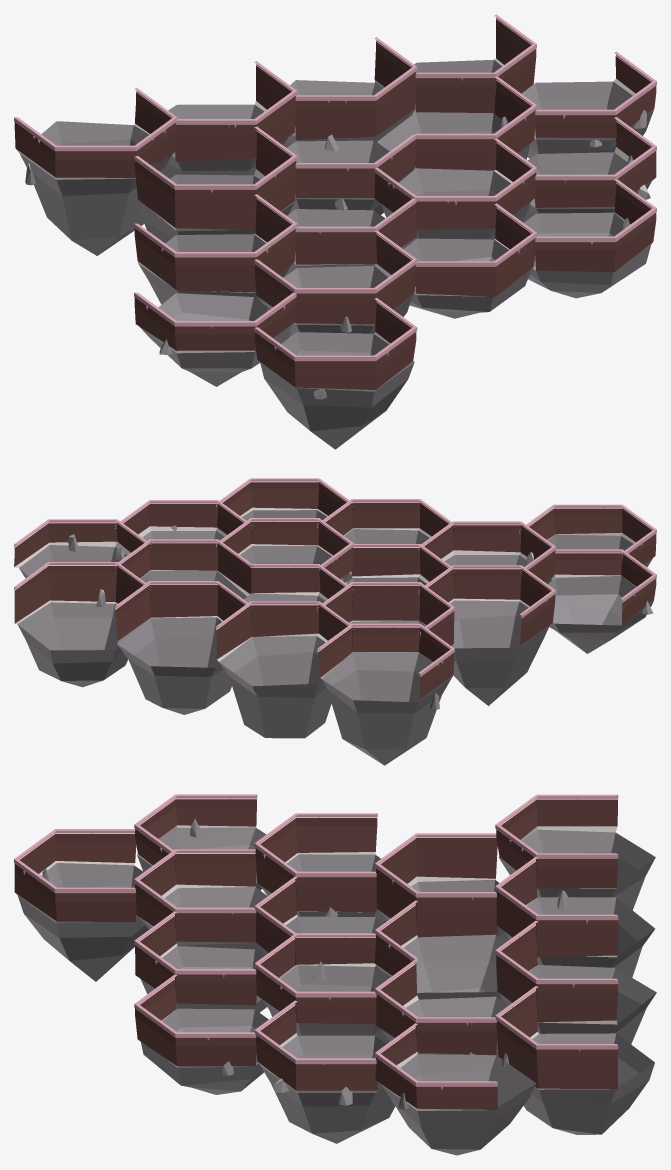
File: island_socket_right.glb
3 views of the same model, one above another, from view 1: azimuth 30°, elevation 25°; view 2: azimuth 150°, elevation 25°; view 3: azimuth 270°, elevation 25° (orthographic). The views are drawn at different scales.
Visible parts, largest first — view 1: island_socket_right_mesh; view 2: island_socket_right_mesh; view 3: island_socket_right_mesh.
Part boxes in pixels (bbox=[...]): island_socket_right_mesh: bbox=[14, 14, 656, 449]; island_socket_right_mesh: bbox=[14, 478, 656, 765]; island_socket_right_mesh: bbox=[14, 794, 656, 1155].
Size of the model in its own units: 9.68 by 2.38 by 8.82.
